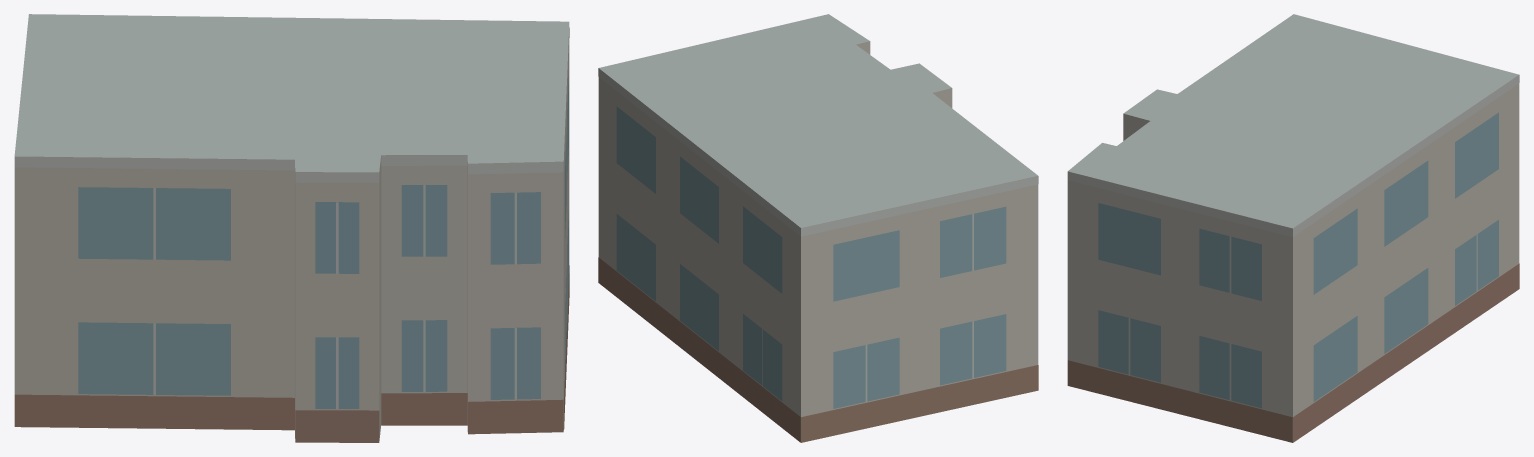
File: survey-upis-32614393.glb
The picture shows the model from 3 angles, left to right: view 1: azimuth 30°, elevation 25°; view 2: azimuth 150°, elevation 25°; view 3: azimuth 270°, elevation 25°; orthographic projection. The views are drawn at different scales.
Visible parts, largest first — view 1: survey-upis-32614393.tmp; view 2: survey-upis-32614393.tmp; view 3: survey-upis-32614393.tmp.
Part boxes in pixels (box(x1,y1,x2,y2)): survey-upis-32614393.tmp: box(14, 14, 569, 442); survey-upis-32614393.tmp: box(598, 14, 1038, 442); survey-upis-32614393.tmp: box(1067, 14, 1519, 442).
Size of the model in its own units: 13.09 by 6.1 by 11.66.
